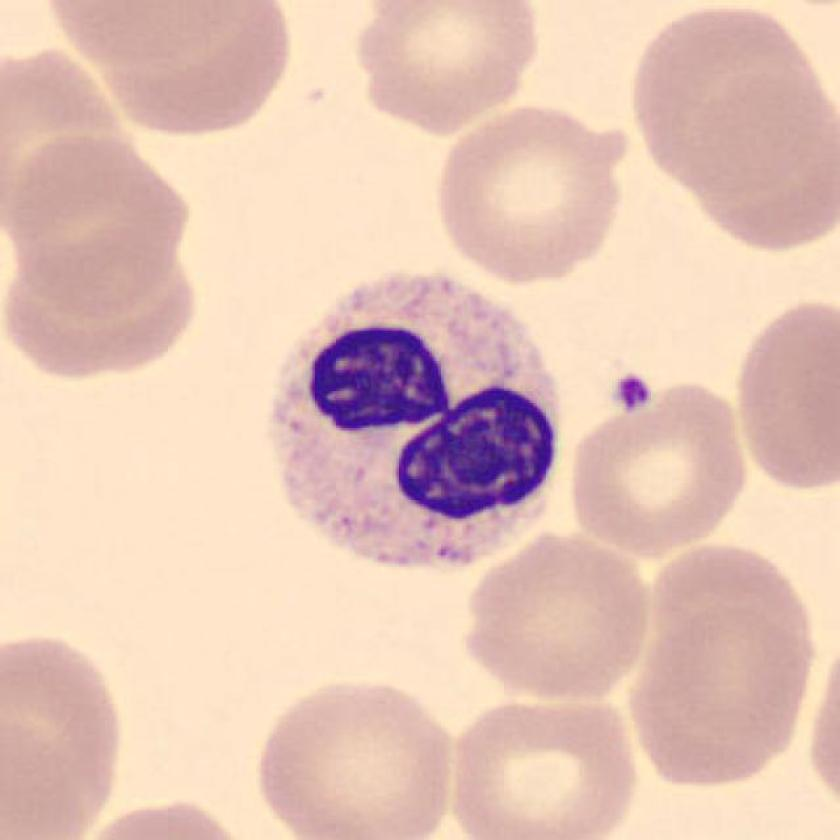neutrophil: (274, 275, 559, 560)
